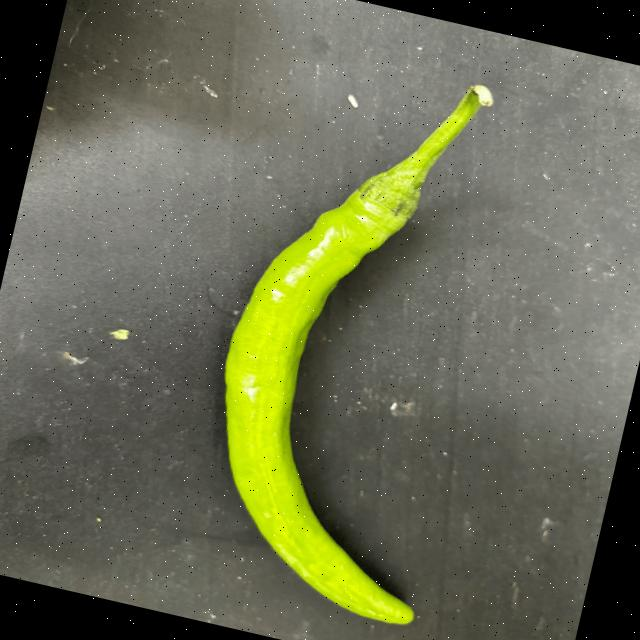chili: (219, 173, 422, 627)
